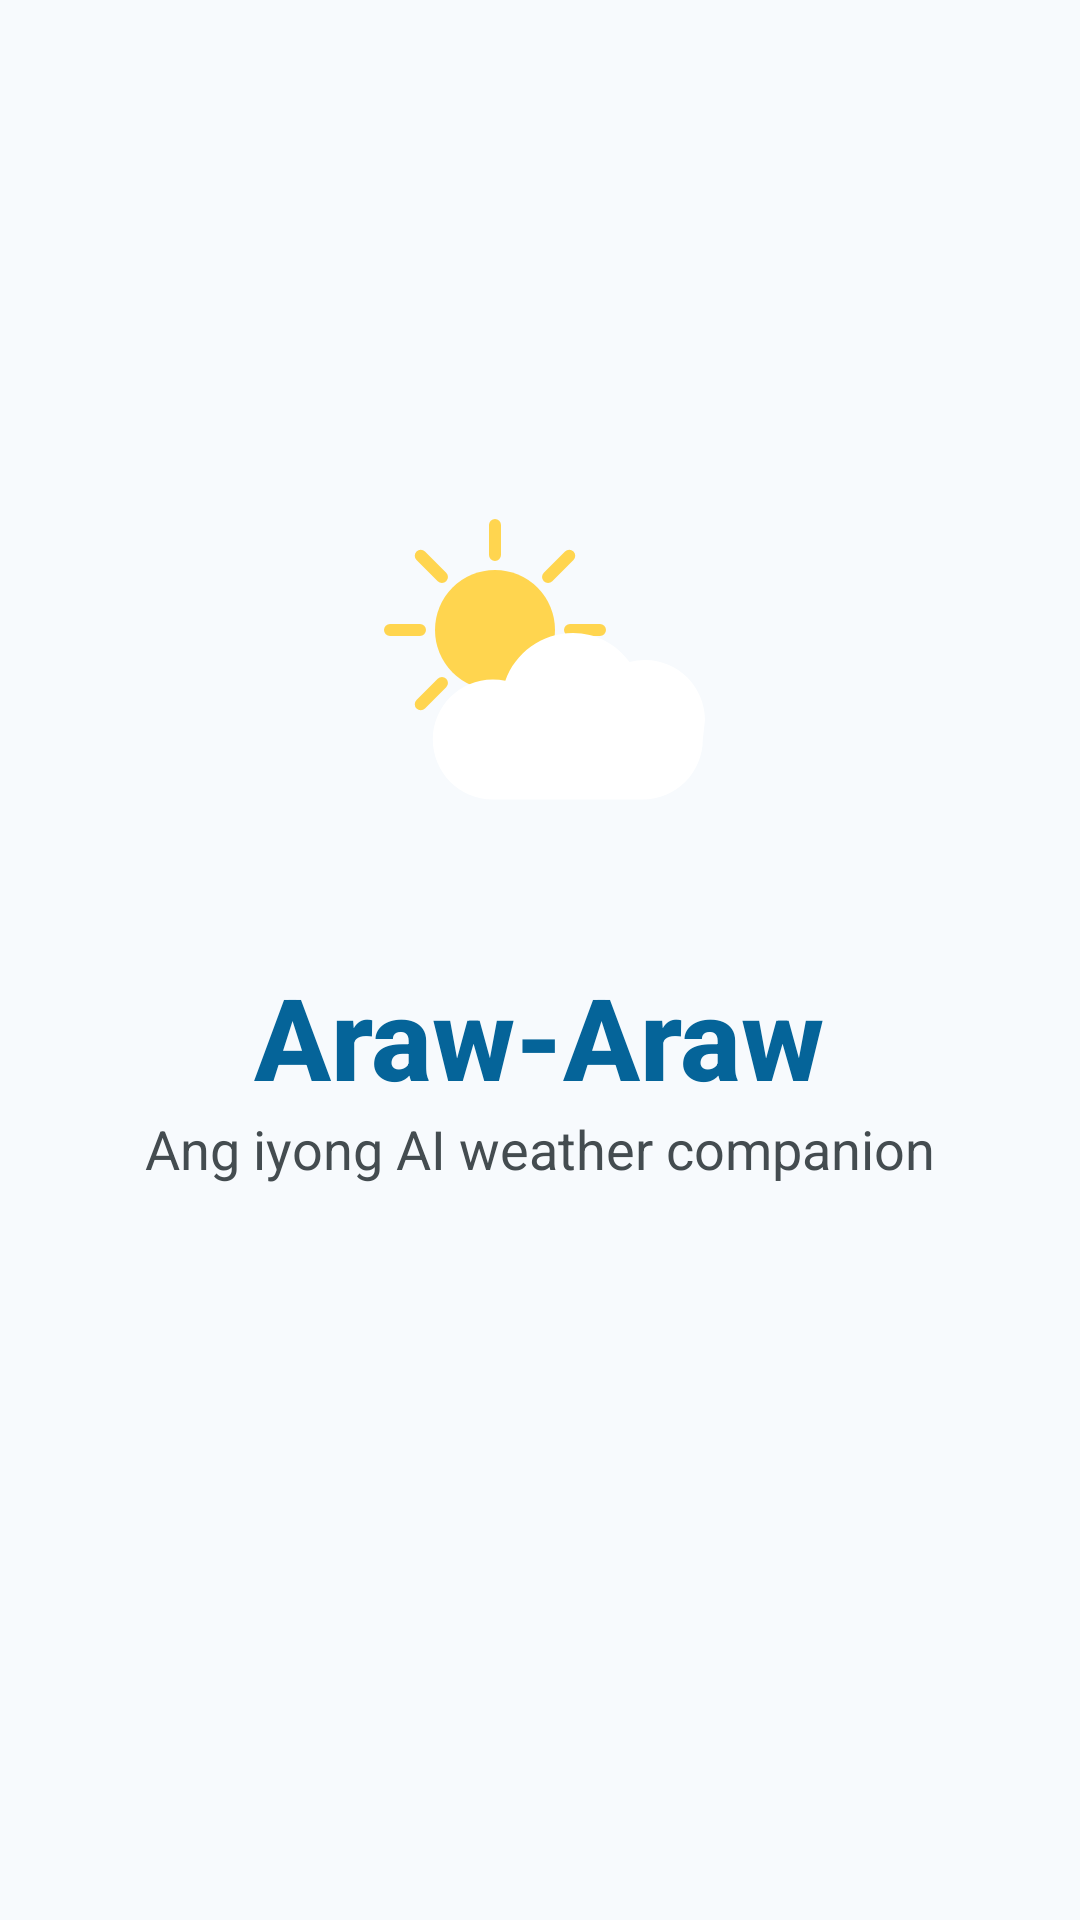

Screen size 1080px x 1920px. Icon name, then its center in pixels as (x=x, y=y):
sun: (x=495, y=615)
